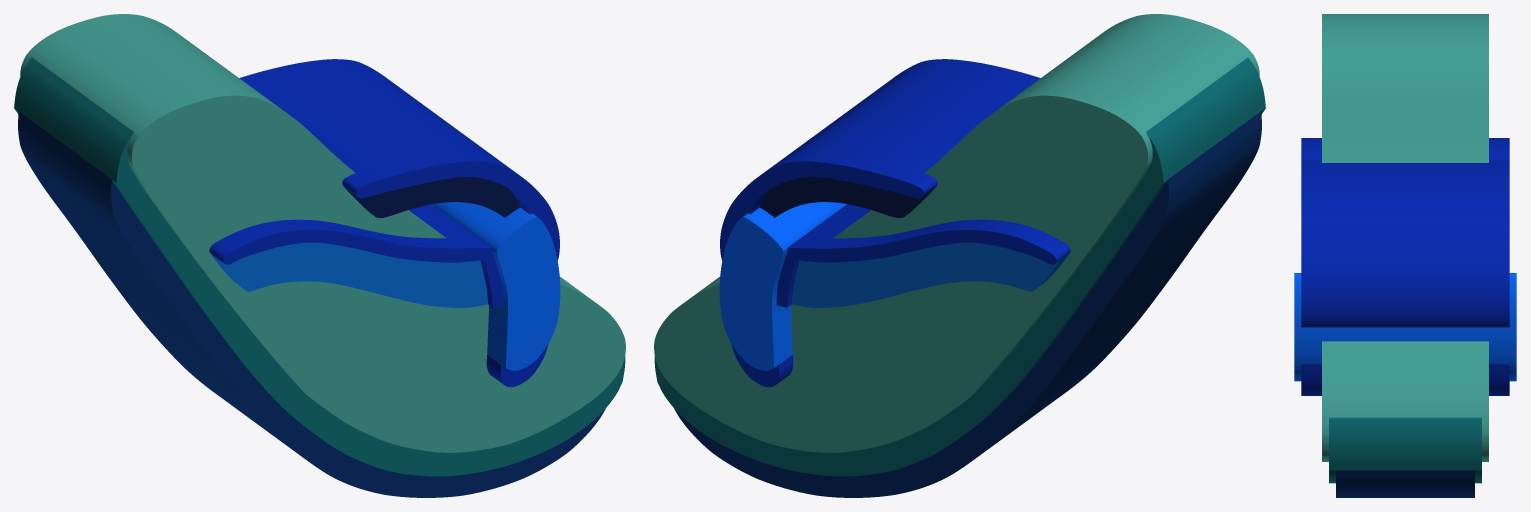
The picture shows the model from 3 angles, left to right: view 1: azimuth 30°, elevation 25°; view 2: azimuth 150°, elevation 25°; view 3: azimuth 270°, elevation 25°; orthographic projection. The views are drawn at different scales.
Parts seen in each view (by area): view 1: U+1FA74_layer02_obj00, U+1FA74_layer05_obj01, U+1FA74_layer00_obj00, U+1FA74_layer01_obj00, U+1FA74_layer06_obj00, U+1FA74_layer04_obj00, U+1FA74_layer03_obj00, U+1FA74_layer05_obj00; view 2: U+1FA74_layer02_obj00, U+1FA74_layer05_obj01, U+1FA74_layer00_obj00, U+1FA74_layer01_obj00, U+1FA74_layer06_obj00, U+1FA74_layer04_obj00, U+1FA74_layer03_obj00, U+1FA74_layer05_obj00; view 3: U+1FA74_layer02_obj00, U+1FA74_layer05_obj01, U+1FA74_layer01_obj00, U+1FA74_layer06_obj00, U+1FA74_layer00_obj00, U+1FA74_layer05_obj00.
Boxes of the visible parts, x1,y1,x2,y2 form: U+1FA74_layer02_obj00: (20, 14, 625, 452); U+1FA74_layer05_obj01: (209, 59, 559, 307); U+1FA74_layer00_obj00: (18, 111, 605, 497); U+1FA74_layer01_obj00: (14, 57, 625, 476); U+1FA74_layer06_obj00: (433, 202, 560, 370); U+1FA74_layer04_obj00: (211, 242, 488, 307); U+1FA74_layer03_obj00: (344, 177, 520, 217); U+1FA74_layer05_obj00: (486, 344, 548, 387); U+1FA74_layer02_obj00: (654, 14, 1259, 452); U+1FA74_layer05_obj01: (720, 59, 1070, 307); U+1FA74_layer00_obj00: (674, 111, 1261, 497); U+1FA74_layer01_obj00: (654, 57, 1265, 476); U+1FA74_layer06_obj00: (719, 202, 846, 370); U+1FA74_layer04_obj00: (791, 242, 1068, 307); U+1FA74_layer03_obj00: (759, 177, 935, 217); U+1FA74_layer05_obj00: (731, 344, 793, 387); U+1FA74_layer02_obj00: (1322, 14, 1488, 461); U+1FA74_layer05_obj01: (1301, 138, 1509, 327); U+1FA74_layer01_obj00: (1329, 417, 1481, 483); U+1FA74_layer06_obj00: (1294, 273, 1516, 381); U+1FA74_layer00_obj00: (1336, 470, 1474, 497); U+1FA74_layer05_obj00: (1301, 364, 1509, 395).
Size of the model in its own units: 0.3163 by 0.2779 by 0.16.
